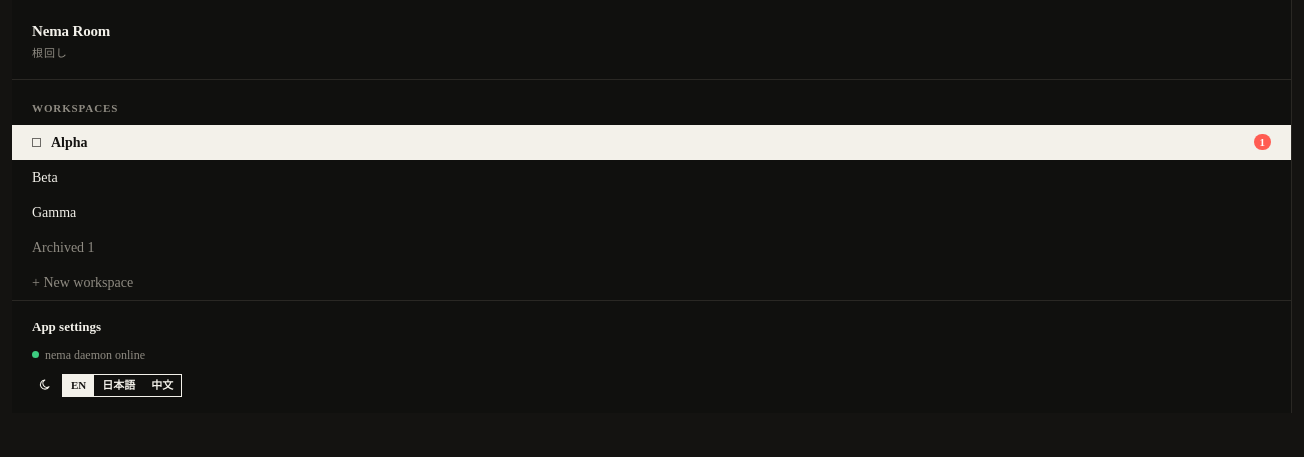
Sidebar › keeps the form and typed name open when creation fails
Click the button "+ New workspace" at [83, 282], box left=12, top=264, right=1291, bottom=300
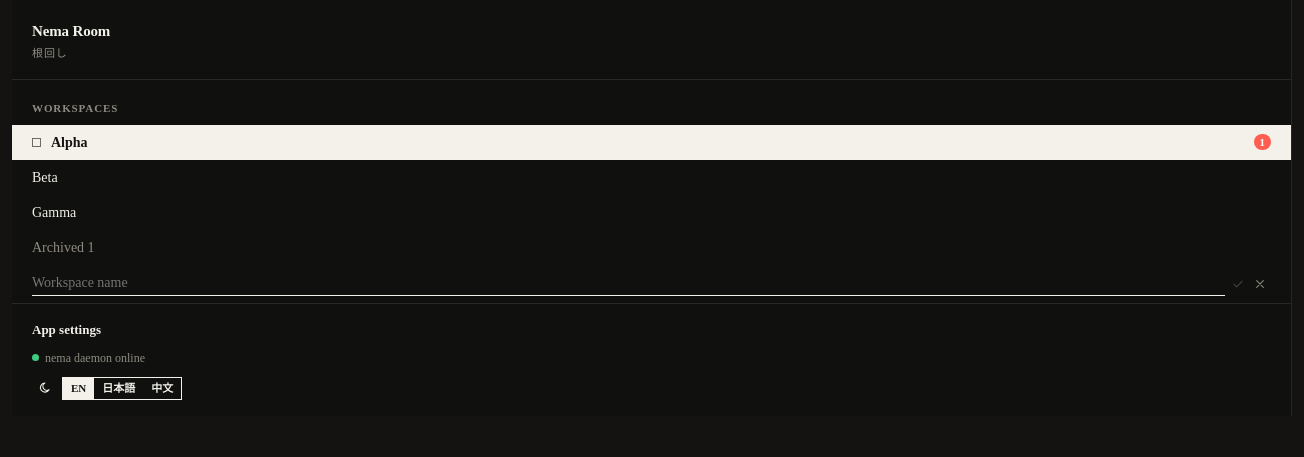
Type "Delta" into the field at [628, 284], box left=32, top=272, right=1225, bottom=296
Then press Enter
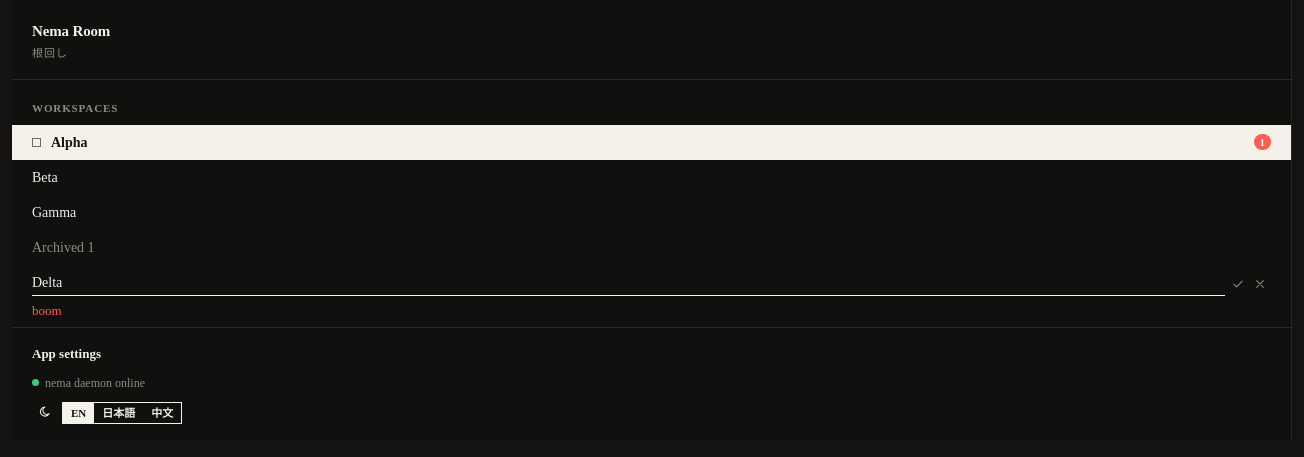
Now the message reads "boom", box left=32, top=302, right=62, bottom=318
